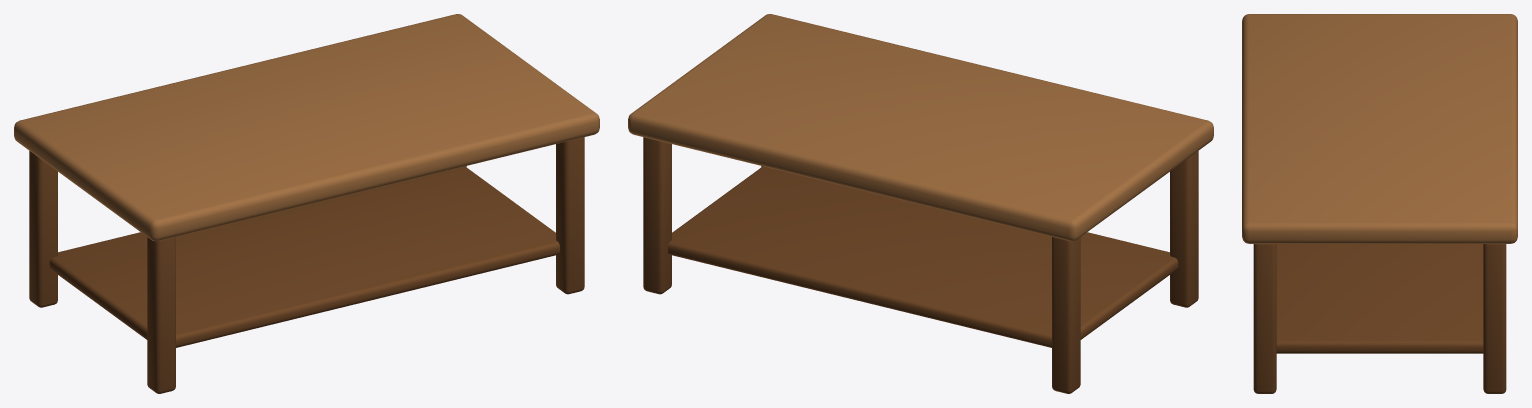
The model's file is coffee_table.glb.
3 views of the same model, side by side, from view 1: azimuth 30°, elevation 25°; view 2: azimuth 150°, elevation 25°; view 3: azimuth 270°, elevation 25° (orthographic). The views are drawn at different scales.
Visible parts, largest first — view 1: coffee_table; view 2: coffee_table; view 3: coffee_table.
Part boxes in pixels (x1,y1,x2,y2): coffee_table: (14, 14, 599, 393); coffee_table: (628, 14, 1213, 393); coffee_table: (1242, 14, 1517, 393).
Bounding box in the file's own units: 1.1 × 0.42 × 0.6.
